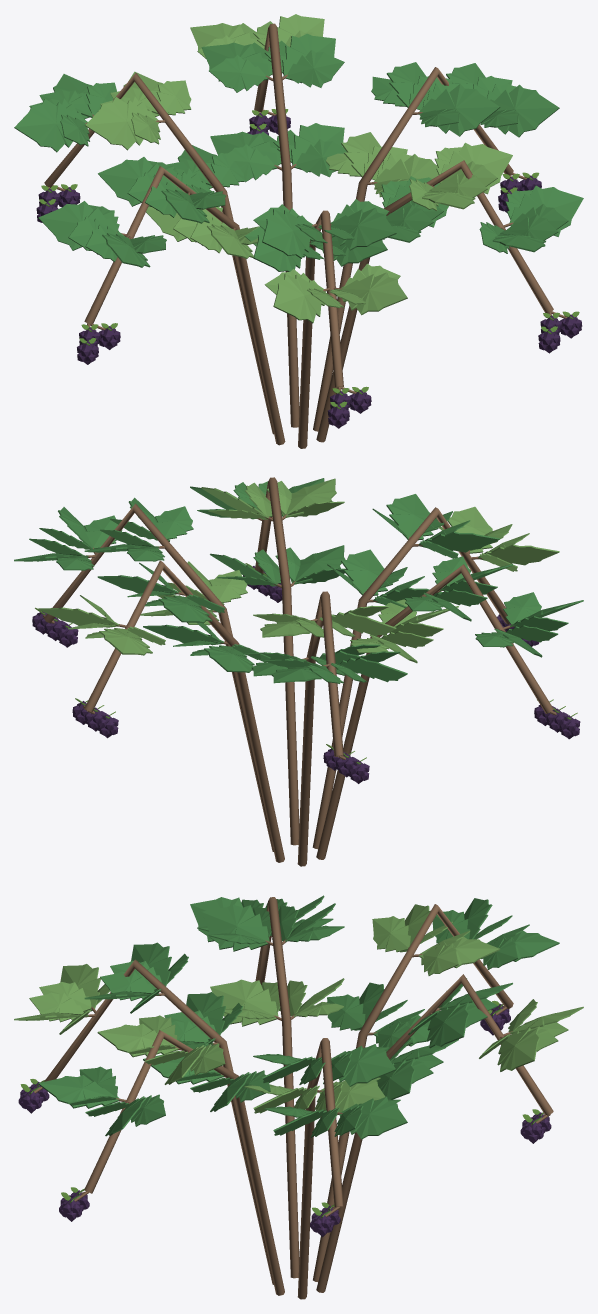
Rendered from bush_blackberry.glb.
3 renders of one model, top to bottom at view 1: azimuth 30°, elevation 25°; view 2: azimuth 150°, elevation 25°; view 3: azimuth 270°, elevation 25°, orthographic.
Visible parts, largest first — view 1: Blackberry curved spreading cane 4, Blackberry curved spreading cane 2, Blackberry curved spreading cane 5, Blackberry curved spreading cane 1, Blackberry curved spreading cane 6, Blackberry curved spreading cane 3, Blackberry broad compound leaf terminal leaf.002, Blackberry broad compound leaf terminal leaf.015, Blackberry broad compound leaf terminal leaf.017, Blackberry broad compound leaf terminal leaf.004, Blackberry broad compound leaf terminal leaf.029, Blackberry broad compound leaf terminal leaf.027 (+45 smaller); view 2: Blackberry curved spreading cane 2, Blackberry curved spreading cane 3, Blackberry curved spreading cane 6, Blackberry curved spreading cane 4, Blackberry curved spreading cane 5, Blackberry curved spreading cane 1, Blackberry broad compound leaf terminal leaf.027, Blackberry broad compound leaf terminal leaf.025, Blackberry broad compound leaf terminal leaf.032, Blackberry broad compound leaf terminal leaf.030, Blackberry broad compound leaf terminal leaf.028, Blackberry broad compound leaf terminal leaf.026 (+22 smaller); view 3: Blackberry curved spreading cane 4, Blackberry curved spreading cane 6, Blackberry curved spreading cane 1, Blackberry curved spreading cane 2, Blackberry curved spreading cane 3, Blackberry curved spreading cane 5, Blackberry broad compound leaf terminal leaf.021, Blackberry broad compound leaf terminal leaf.019, Blackberry broad compound leaf terminal leaf.005, Blackberry broad compound leaf terminal leaf.003, Blackberry broad compound leaf terminal leaf.034, Blackberry broad compound leaf terminal leaf.032 (+33 smaller).
Part boxes in pixels (box(x1,y1,x2,y2)): Blackberry curved spreading cane 4: box(84, 166, 285, 445); Blackberry curved spreading cane 2: box(254, 23, 299, 427); Blackberry curved spreading cane 5: box(298, 210, 343, 448); Blackberry curved spreading cane 1: box(313, 67, 513, 431); Blackberry curved spreading cane 6: box(316, 160, 553, 442); Blackberry curved spreading cane 3: box(44, 73, 273, 434); Blackberry broad compound leaf terminal leaf.002: box(419, 84, 500, 136); Blackberry broad compound leaf terminal leaf.015: box(85, 97, 159, 150); Blackberry broad compound leaf terminal leaf.017: box(14, 99, 87, 152); Blackberry broad compound leaf terminal leaf.004: box(490, 84, 559, 137); Blackberry broad compound leaf terminal leaf.029: box(341, 272, 407, 315); Blackberry broad compound leaf terminal leaf.027: box(330, 207, 396, 250); Blackberry curved spreading cane 2: box(84, 560, 284, 862); Blackberry curved spreading cane 3: box(297, 591, 343, 866); Blackberry curved spreading cane 6: box(255, 477, 299, 845); Blackberry curved spreading cane 4: box(316, 564, 553, 859); Blackberry curved spreading cane 5: box(312, 507, 510, 849); Blackberry curved spreading cane 1: box(44, 503, 273, 851); Blackberry broad compound leaf terminal leaf.027: box(386, 494, 438, 540); Blackberry broad compound leaf terminal leaf.025: box(341, 549, 392, 595); Blackberry broad compound leaf terminal leaf.032: box(281, 478, 336, 517); Blackberry broad compound leaf terminal leaf.030: box(290, 545, 345, 584); Blackberry broad compound leaf terminal leaf.028: box(478, 544, 559, 565); Blackberry broad compound leaf terminal leaf.026: box(419, 531, 500, 552); Blackberry curved spreading cane 4: box(255, 897, 299, 1278); Blackberry curved spreading cane 6: box(84, 1030, 284, 1295); Blackberry curved spreading cane 1: box(297, 1038, 343, 1299); Blackberry curved spreading cane 2: box(316, 974, 553, 1292); Blackberry curved spreading cane 3: box(313, 904, 513, 1281); Blackberry curved spreading cane 5: box(44, 959, 273, 1284); Blackberry broad compound leaf terminal leaf.021: box(201, 904, 269, 951); Blackberry broad compound leaf terminal leaf.019: box(210, 979, 278, 1026); Blackberry broad compound leaf terminal leaf.005: box(339, 1096, 407, 1139); Blackberry broad compound leaf terminal leaf.003: box(331, 1044, 396, 1086); Blackberry broad compound leaf terminal leaf.034: box(38, 1075, 119, 1108); Blackberry broad compound leaf terminal leaf.032: box(97, 1023, 178, 1057).
Size of the model in its own units: 1.49 by 0.9606 by 1.46.
